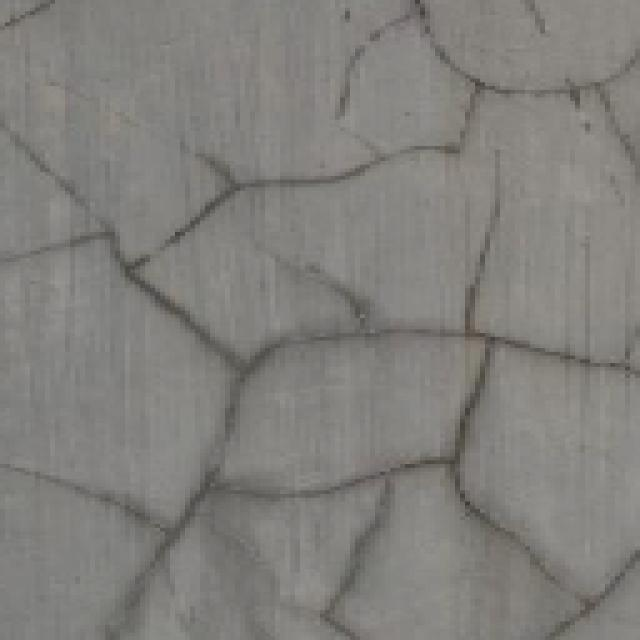network cracks: (0, 0, 639, 639), (0, 0, 58, 28)
